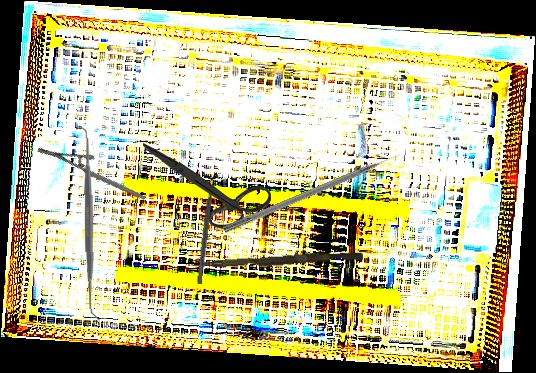Fixation Ring: (190, 171, 220, 286)
Hook Surgical: (222, 152, 403, 235)
Iris Scissors: (143, 139, 272, 232)
Needle Holder: (35, 119, 147, 229)
Pusher: (190, 247, 364, 275)
Spatula Surgical: (77, 124, 102, 323)
